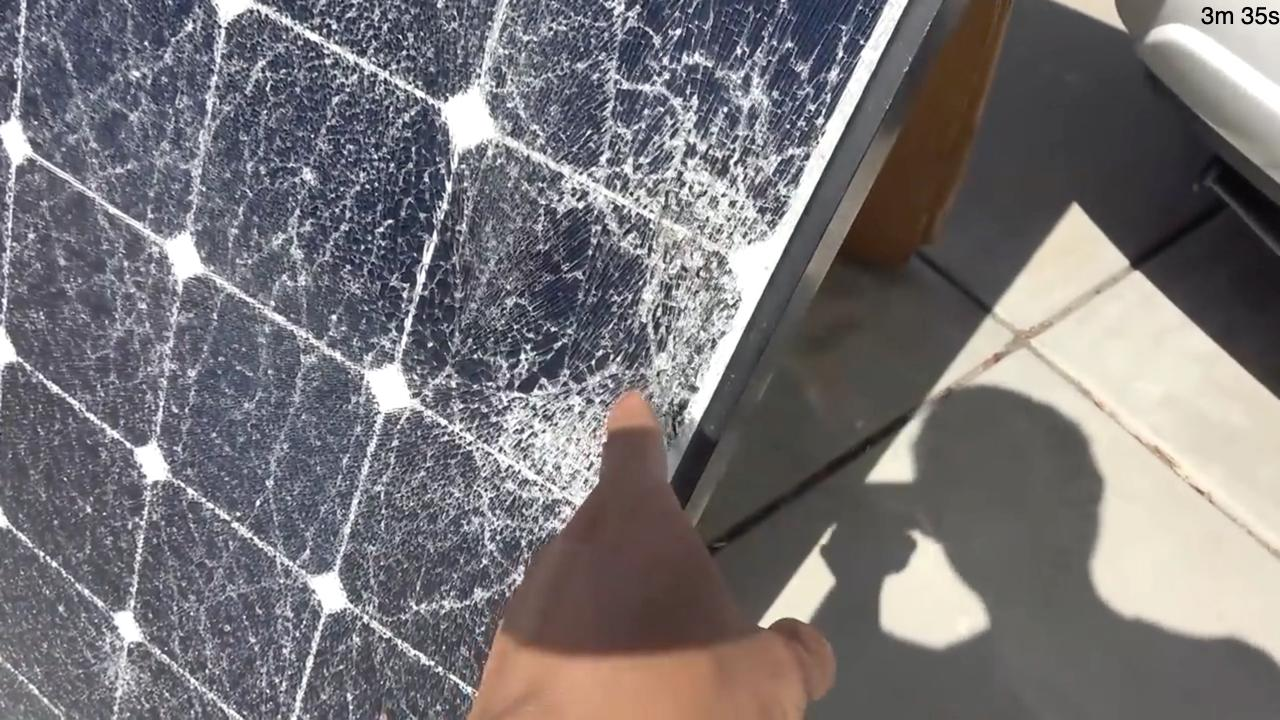Crack: (12, 497, 466, 720), (505, 0, 859, 274), (231, 4, 436, 251), (186, 319, 382, 557), (18, 6, 203, 248), (0, 259, 166, 475), (453, 291, 591, 489), (406, 494, 518, 582)
